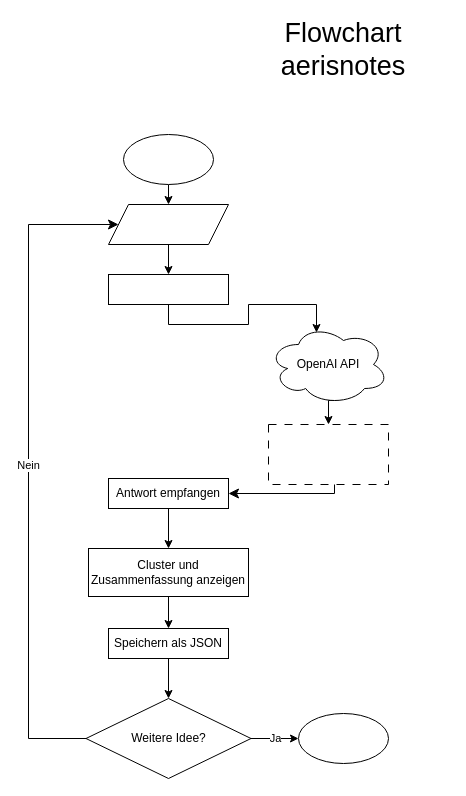
Some shapes in this 466 by 796 pixel diagram are drawn without their labels. Each missing label, with the centre of its shape:
"Input User" goes at (x=168, y=224).
"Input zusammenfassen & clustern" goes at (x=328, y=454).
"Sende an OpenAI" goes at (x=168, y=289).
